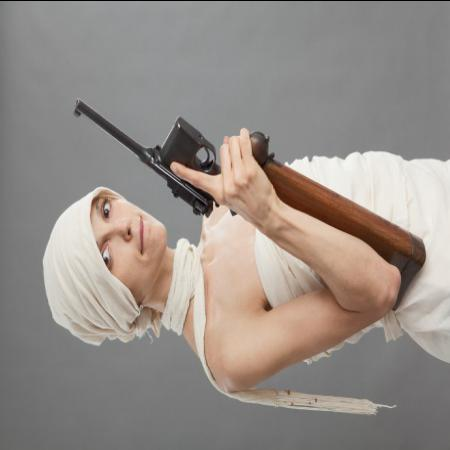Pistol: (71, 96, 267, 214)
